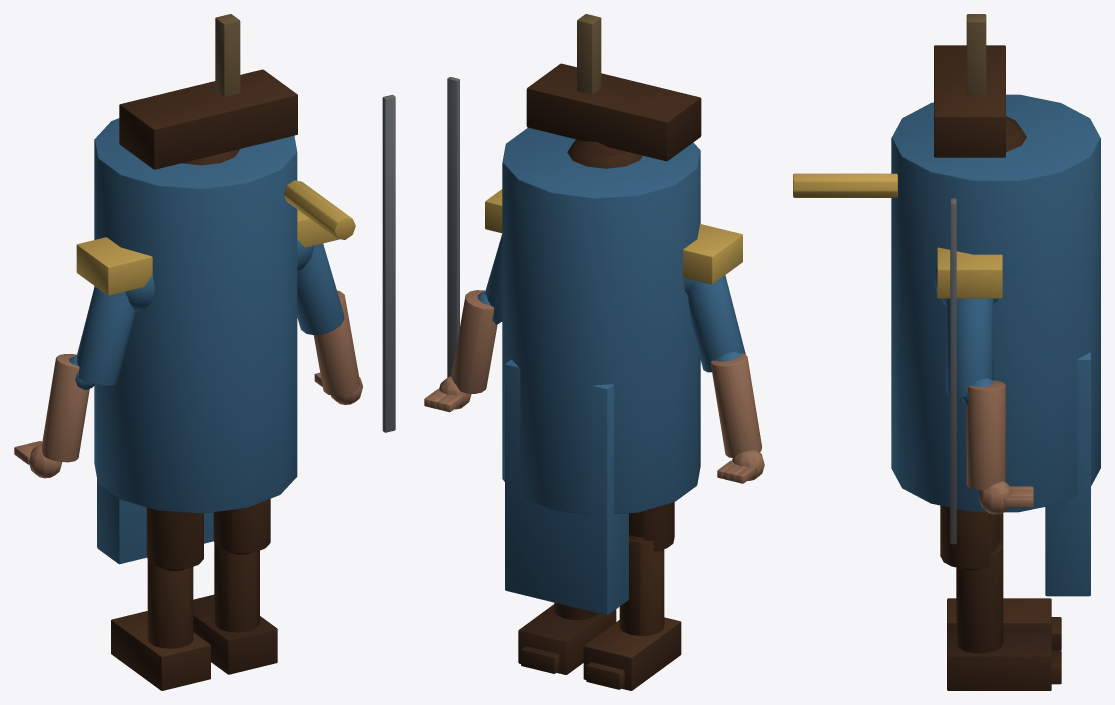
The model's file is unit_freetown_captain.fbx.
3 views of the same model, side by side, from view 1: azimuth 30°, elevation 25°; view 2: azimuth 150°, elevation 25°; view 3: azimuth 270°, elevation 25° (orthographic). The views are drawn at different scales.
Visible parts, largest first — view 1: unit_freetown_captain; view 2: unit_freetown_captain; view 3: unit_freetown_captain.
Boxes of the visible parts, x1,y1,x2,y2 form: unit_freetown_captain: (14, 14, 395, 690); unit_freetown_captain: (424, 14, 764, 690); unit_freetown_captain: (793, 14, 1100, 690).
Bounding box in the file's own units: 1.23 × 2.21 × 0.94.
